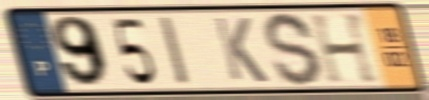5: (108, 16, 159, 87)
9: (51, 13, 113, 91)
H: (307, 10, 382, 86)
I: (156, 13, 194, 88)
K: (210, 14, 271, 85)
S: (261, 10, 325, 89)
